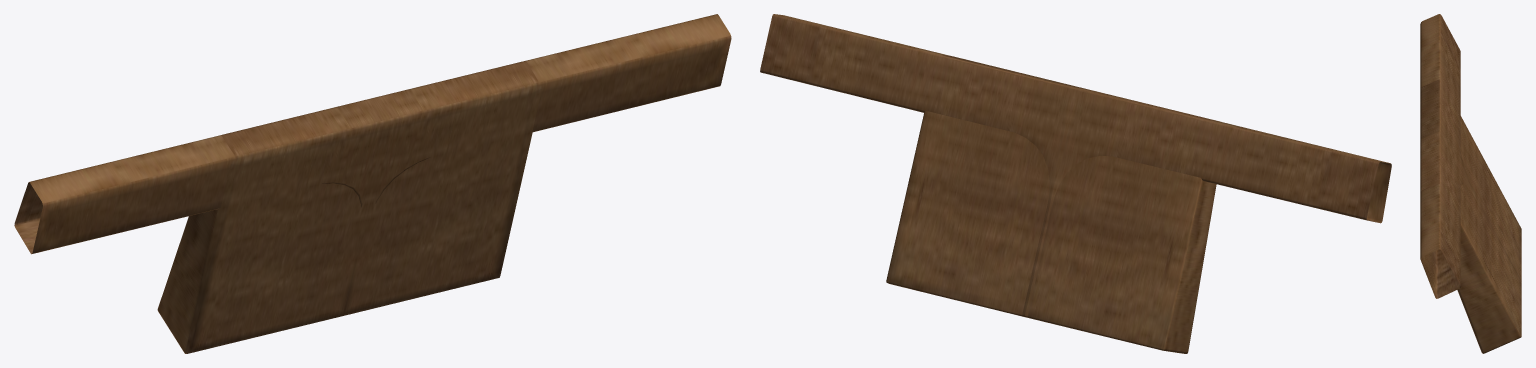
File: plank.006.gltf
The picture shows the model from 3 angles, left to right: view 1: azimuth 30°, elevation 25°; view 2: azimuth 150°, elevation 25°; view 3: azimuth 270°, elevation 25°; orthographic projection. The views are drawn at different scales.
Parts seen in each view (by area): view 1: plank.006; view 2: plank.006; view 3: plank.006.
Boxes of the visible parts, box(x1,y1,x2,y2) form: plank.006: box(14, 14, 731, 353); plank.006: box(760, 14, 1391, 353); plank.006: box(1420, 14, 1521, 353).
Size of the model in its own units: 0.378 by 0.1263 by 0.0688.
Materials: 1 (1 with a texture image).
